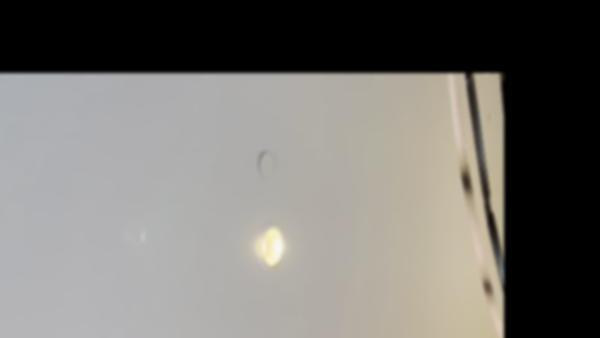light_on: (251, 220, 290, 272)
